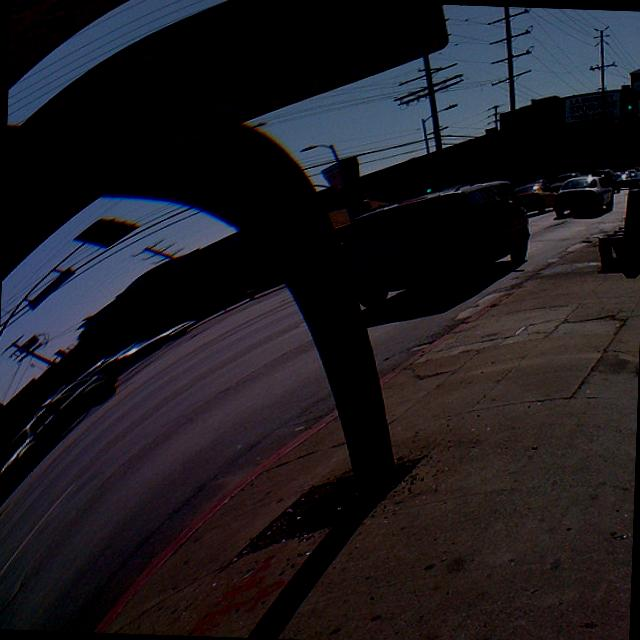Vehicle: (350, 179, 534, 293), (0, 369, 119, 511), (79, 315, 196, 381), (553, 174, 615, 218), (519, 182, 556, 214), (589, 168, 622, 194), (548, 170, 580, 184), (550, 180, 564, 192), (634, 165, 640, 176)
